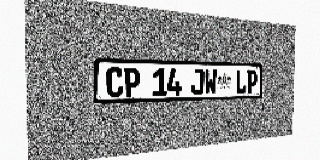1: (152, 68, 167, 96)
4: (167, 68, 181, 96)
C: (106, 67, 123, 97)
J: (191, 69, 204, 95)
L: (235, 69, 247, 94)
P: (124, 67, 140, 97), (247, 70, 257, 93)
W: (204, 69, 217, 95)
